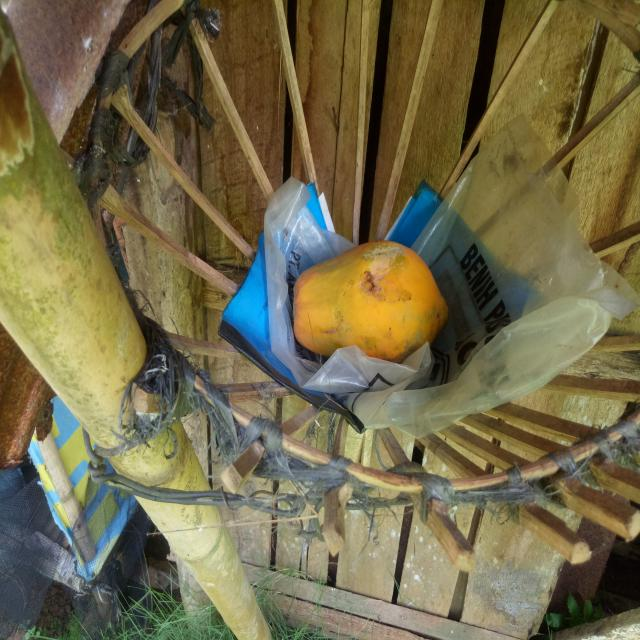Pepaya rippen: (287, 245, 454, 382)
